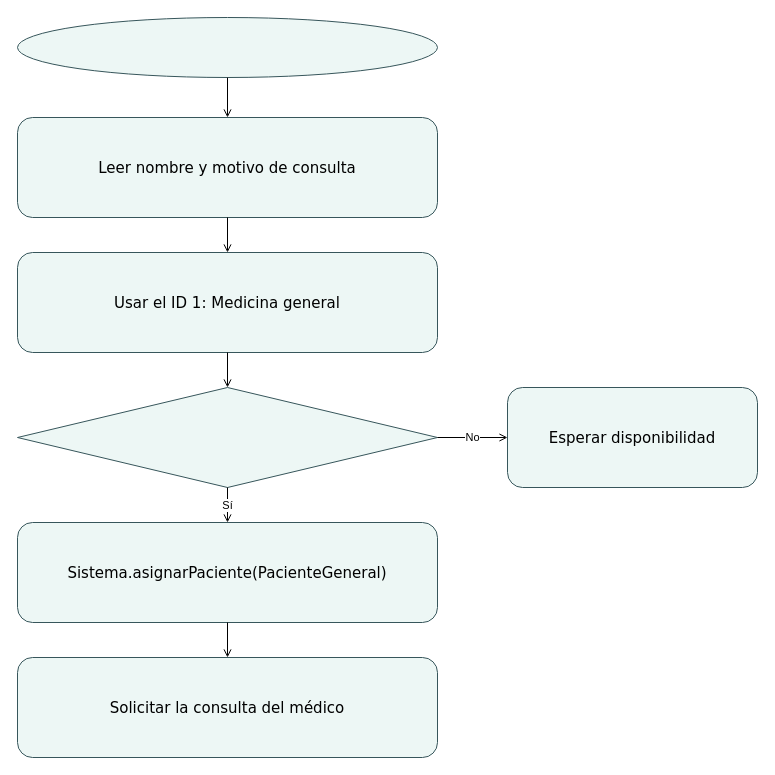
This 775x775 diagram has some shape labels left out. The shapes that lost their labels are listed below. From the top down, each one's centre as x and y in pixels, then its label:
At (x=227, y=47): "Buscar medicina general".
At (x=227, y=437): "¿Existe médico general libre con cupo?".
